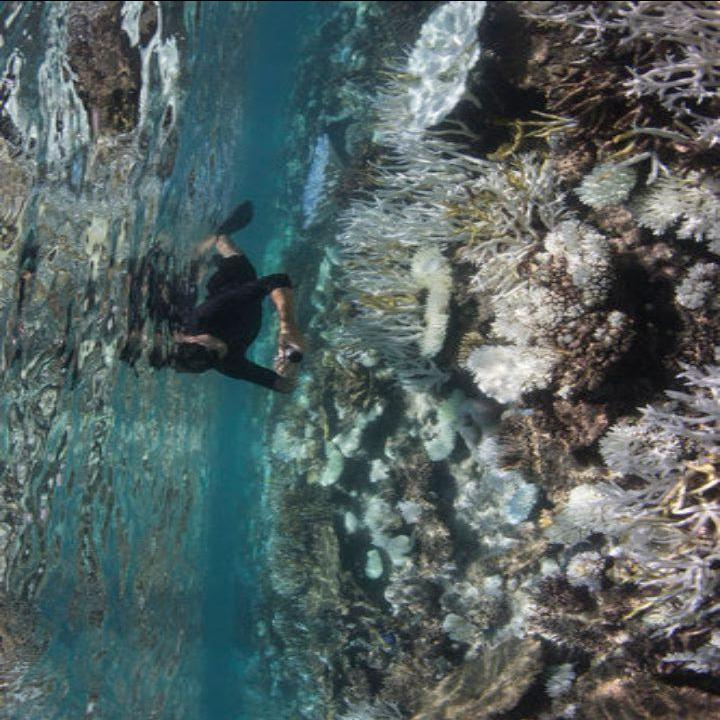Bleached-disease: (315, 69, 497, 394)
